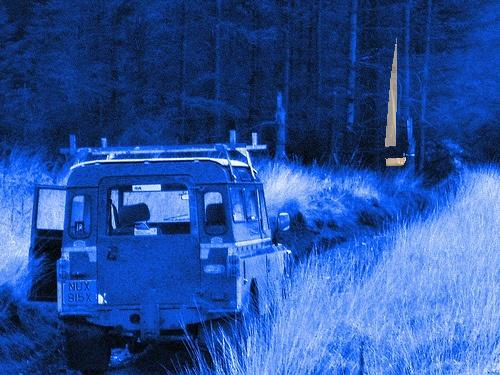tampered: (386, 39, 406, 166)
